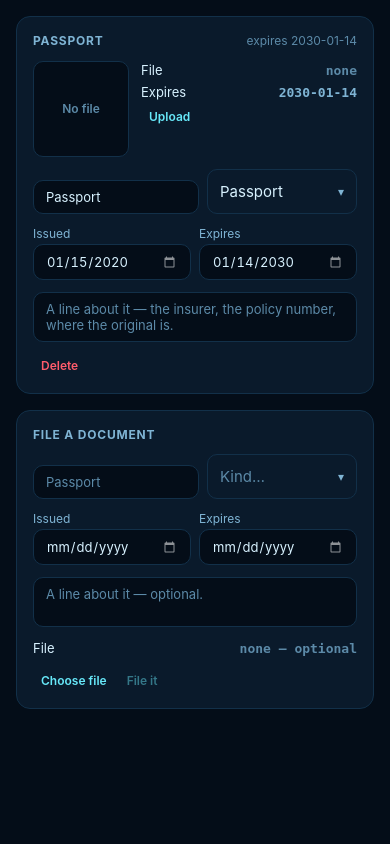
filing a new one › keeps the form when the record itself was refused
This screenshot has width=390, height=844.
Type "  Car policy " into the field with test id "document-new-title".
click(116, 482); type("  Car policy ")  # box [33,465,199,499]
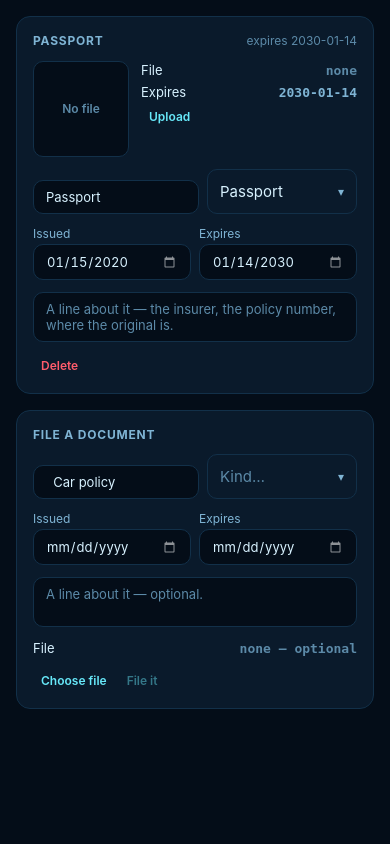
Click the button with test id "document-new-kind".
click(282, 476)  # box [207,454,357,499]
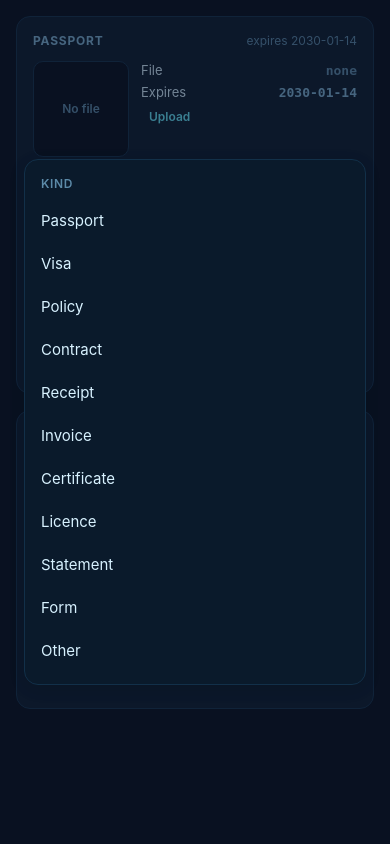
Click the button "Policy".
click(62, 306)  # box [25,285,365,328]
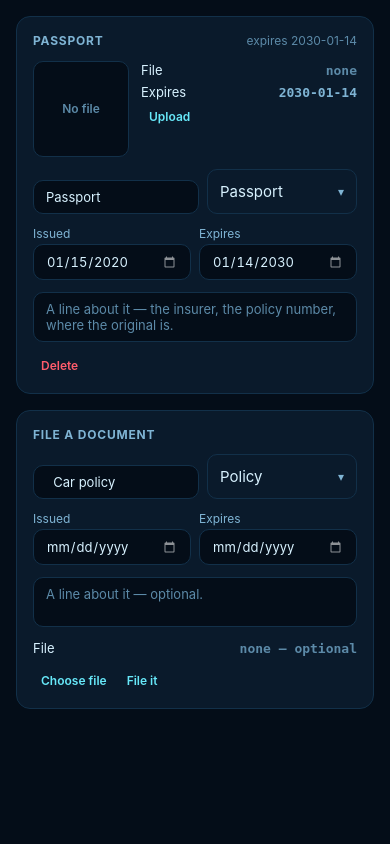
Click the button with test id "document-new-submit".
click(142, 680)  # box [119,669,165,692]
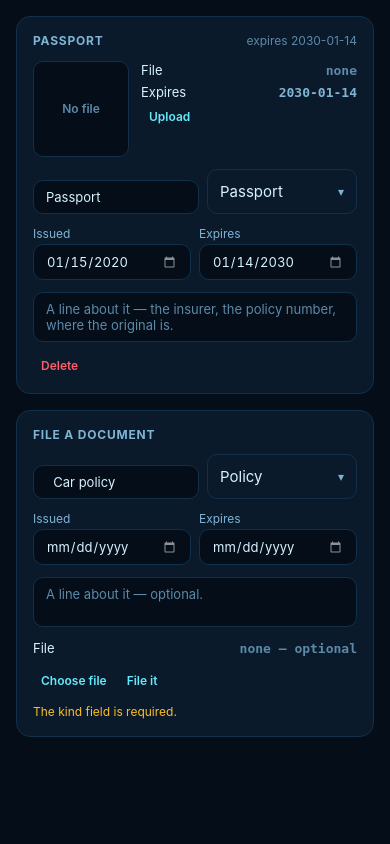
Expected: the text "The kind field is required." is shown, [33,704,177,719]
